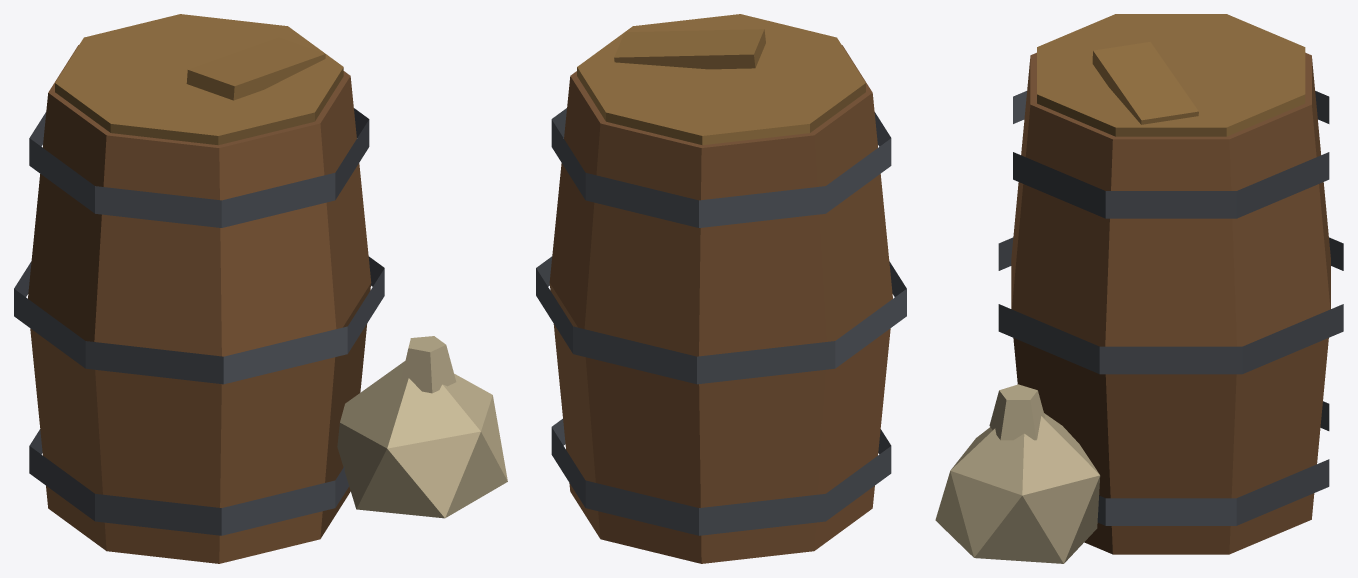
Rendered from barrel.glb.
3 views of the same model, side by side, from view 1: azimuth 30°, elevation 25°; view 2: azimuth 150°, elevation 25°; view 3: azimuth 270°, elevation 25° (orthographic).
Parts seen in each view (by area): view 1: barrel; view 2: barrel; view 3: barrel.
Part boxes in pixels (x1=…): barrel: x1=14, y1=14, x2=507, y2=563; barrel: x1=536, y1=14, x2=906, y2=563; barrel: x1=935, y1=14, x2=1343, y2=563.
Size of the model in its own units: 0.8346 by 0.9596 by 0.8022.
